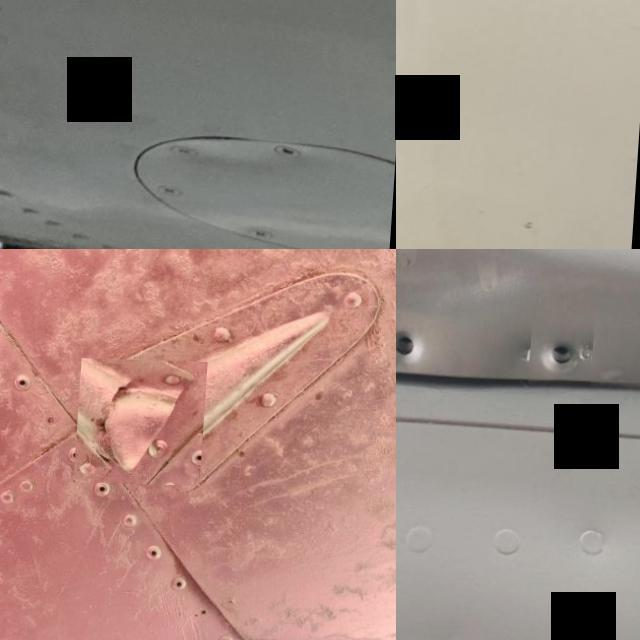Crack: (79, 357, 211, 484)
Missing_Fastener: (532, 319, 598, 384), (396, 310, 442, 374), (394, 164, 396, 182)
